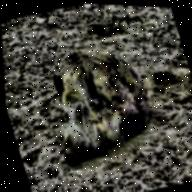boar: (33, 25, 172, 173)
